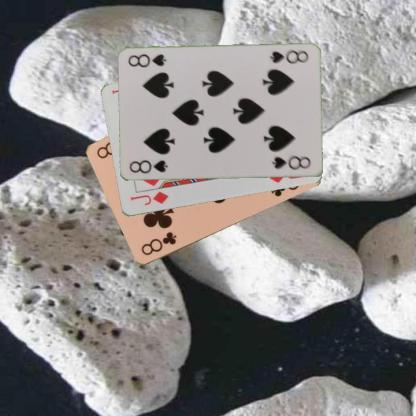8c: (138, 229, 178, 257)
8s: (267, 48, 310, 65), (127, 158, 168, 175)
Jd: (127, 189, 170, 207)
